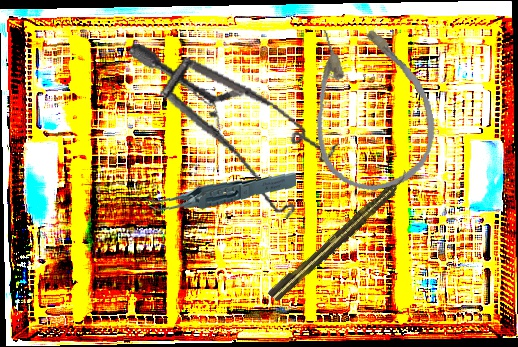Cannula: (294, 10, 447, 201)
Handpiece: (266, 168, 415, 304)
Speculum: (103, 42, 351, 226)
Tissue Forceps: (143, 161, 297, 220)
